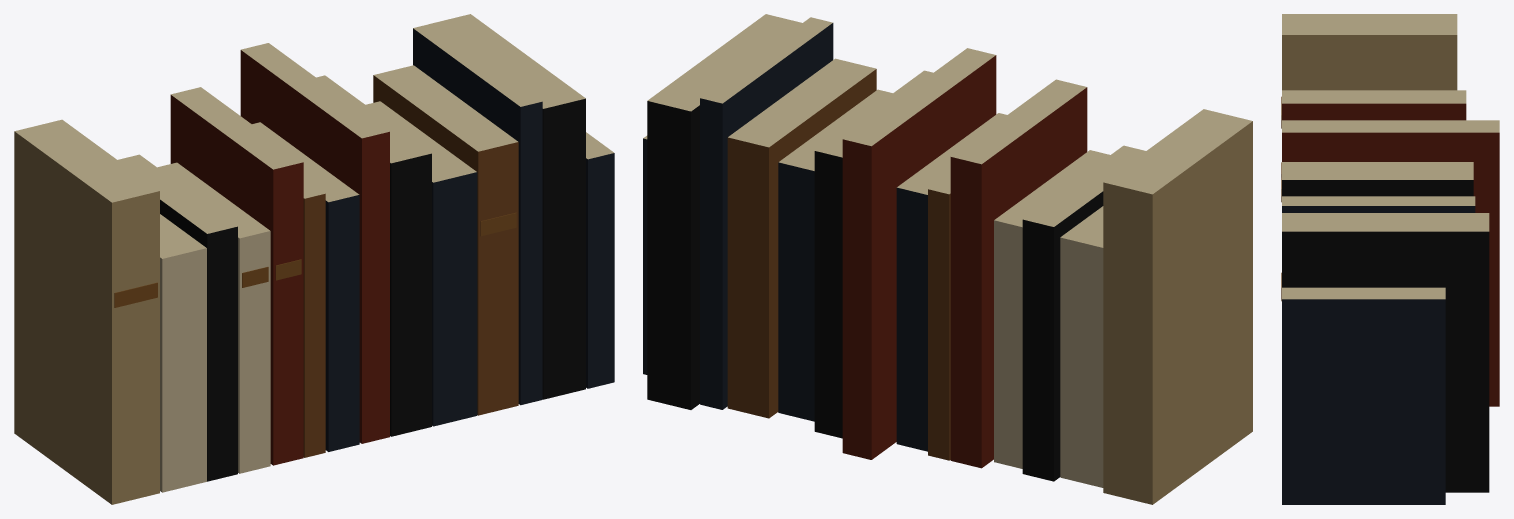
3 renders of one model, left to right at view 1: azimuth 30°, elevation 25°; view 2: azimuth 150°, elevation 25°; view 3: azimuth 270°, elevation 25°, orthographic. The views are drawn at different scales.
Visible parts, largest first — view 1: books-row-45; view 2: books-row-45; view 3: books-row-45.
Boxes of the visible parts, bbox=[...] form: books-row-45: bbox=[14, 14, 614, 504]; books-row-45: bbox=[643, 14, 1252, 504]; books-row-45: bbox=[1281, 14, 1499, 504].
Bounding box in the file's own units: 0.4277 × 0.2485 × 0.1795.
